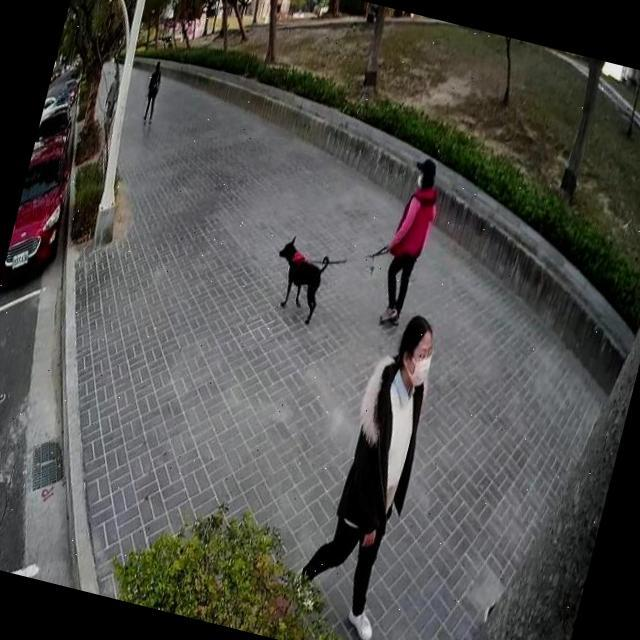person: (279, 294, 454, 640), (367, 147, 454, 330), (94, 60, 130, 144), (134, 51, 171, 128)
